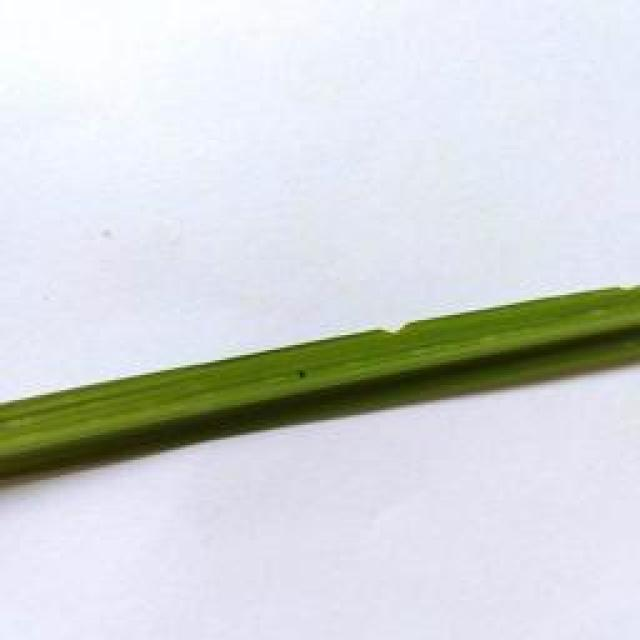Healthy-Plant: (0, 330, 270, 488), (426, 279, 637, 413)
